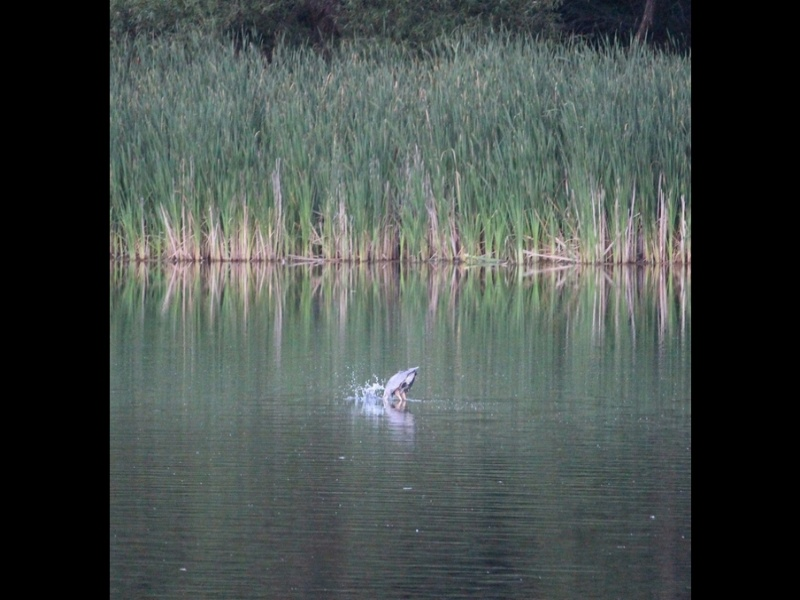heron: (369, 366, 418, 408)
